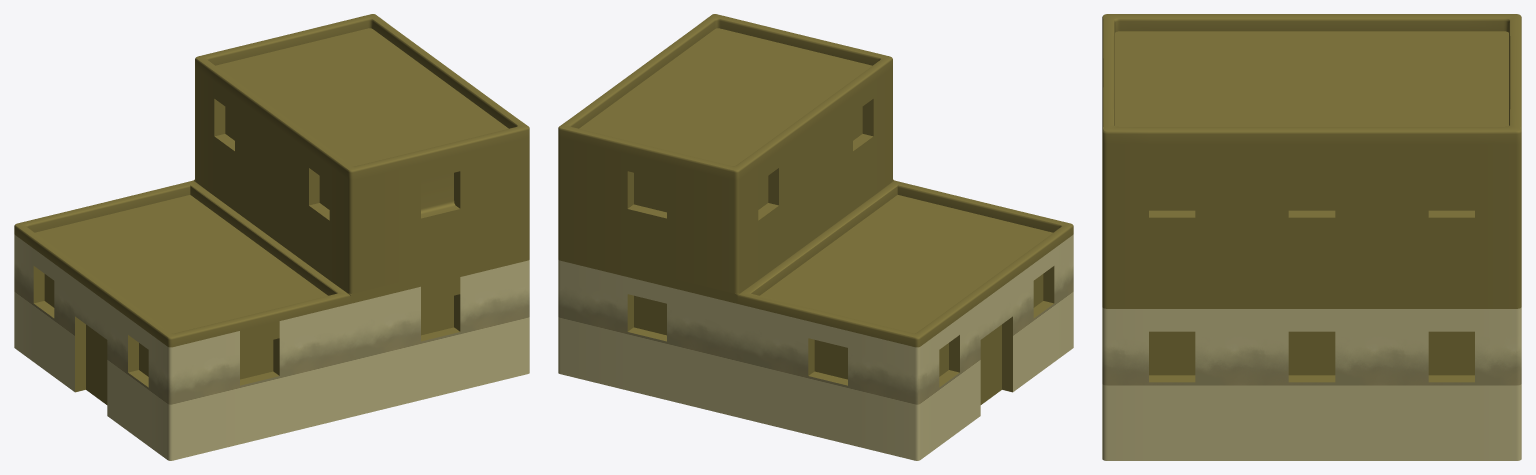
File: CasaDoble.FBX
3 renders of one model, left to right at view 1: azimuth 30°, elevation 25°; view 2: azimuth 150°, elevation 25°; view 3: azimuth 270°, elevation 25°, orthographic. The views are drawn at different scales.
Parts seen in each view (by area): view 1: Box003, Box001, Box002; view 2: Box003, Box001, Box002; view 3: Box003, Box002.
Part boxes in pixels (box(x1,y1,x2,y2)): Box003: box(195, 14, 529, 293); Box001: box(14, 180, 350, 460); Box002: box(193, 179, 529, 417); Box003: box(558, 14, 892, 293); Box001: box(737, 180, 1073, 460); Box002: box(558, 179, 894, 417); Box003: box(1102, 14, 1521, 296); Box002: box(1102, 295, 1521, 460).
Size of the model in its own units: 20 by 13 by 15.
Materials: 2 (1 with a texture image).
